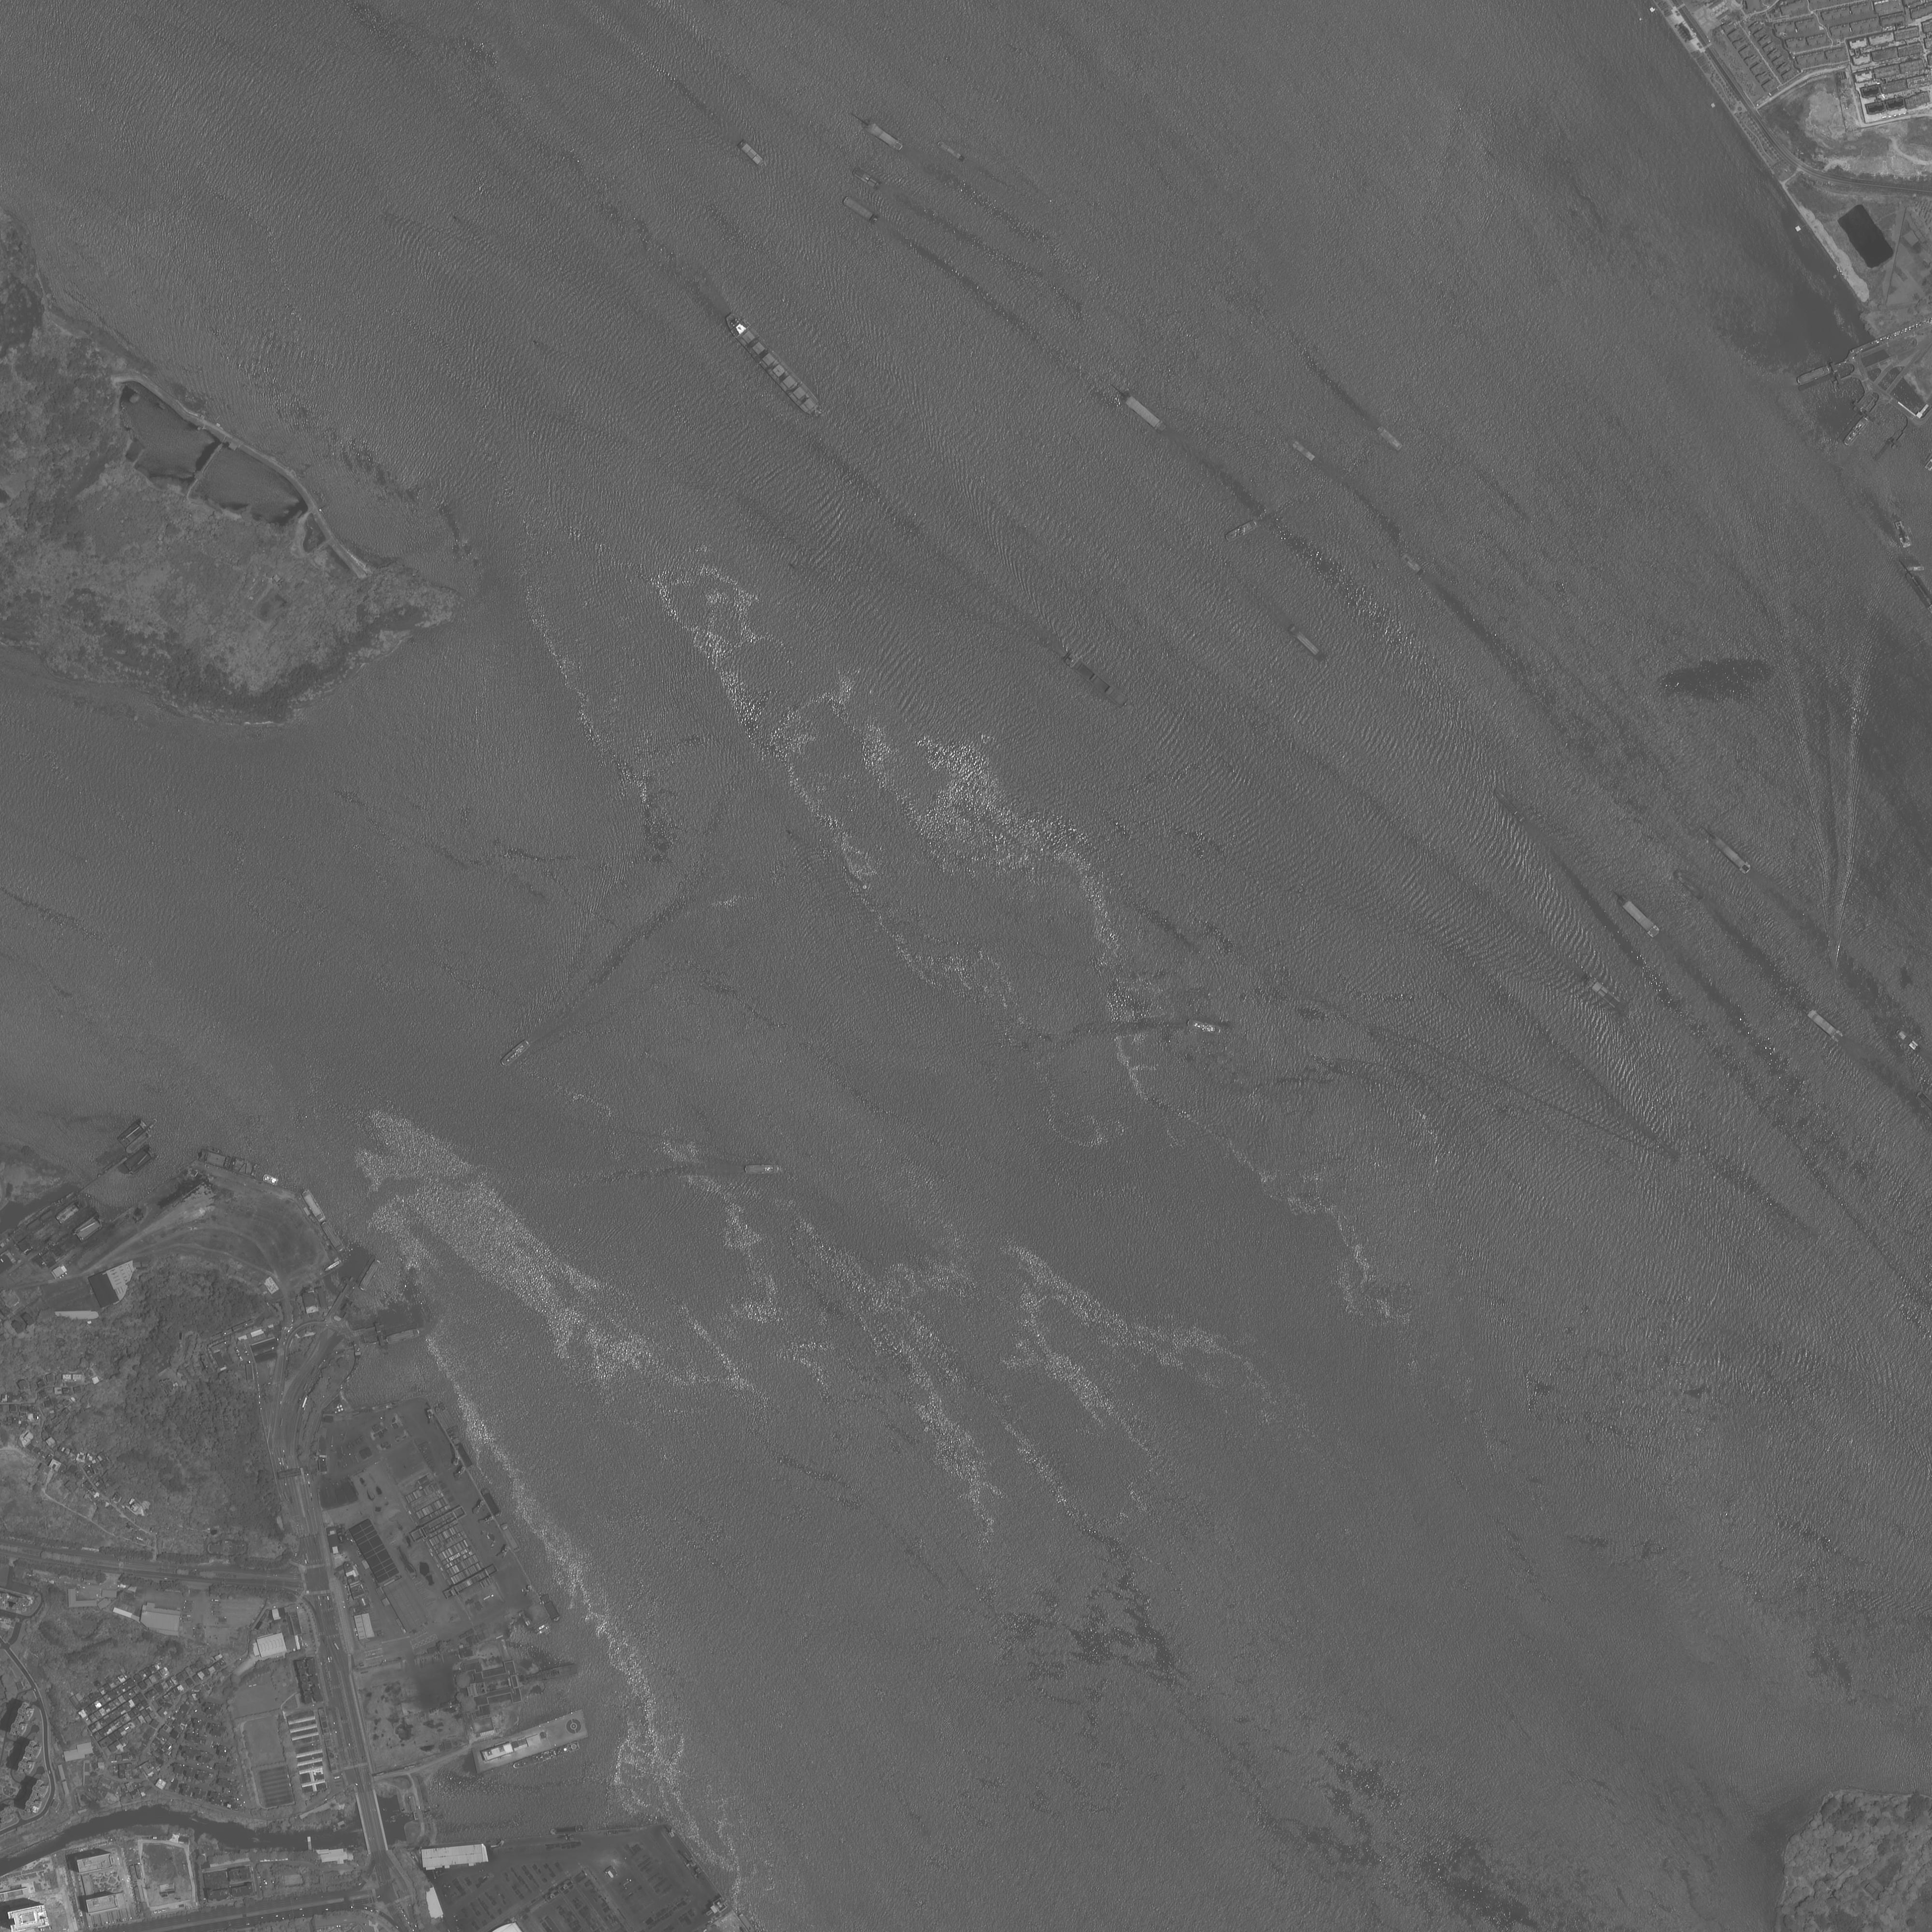harbor: (80, 1154, 129, 1194)
ship: (717, 304, 832, 426), (1058, 646, 1139, 717), (1113, 384, 1171, 439), (1612, 890, 1665, 941), (1706, 830, 1757, 878), (1580, 971, 1633, 1017), (510, 1741, 584, 1773), (1799, 1003, 1847, 1047), (858, 117, 908, 156), (1283, 621, 1325, 662), (1490, 786, 1529, 828), (839, 193, 881, 228), (495, 1035, 534, 1072), (734, 136, 770, 172), (1283, 432, 1320, 465), (1221, 517, 1261, 547), (1674, 870, 1709, 904), (299, 1187, 329, 1226), (449, 1433, 478, 1474), (1840, 416, 1874, 449), (122, 1127, 157, 1159), (318, 1219, 349, 1256), (356, 1256, 386, 1293), (1891, 1026, 1925, 1058), (849, 165, 885, 195), (934, 136, 970, 166), (1184, 1016, 1230, 1039), (384, 1325, 428, 1348), (1394, 550, 1428, 580), (1792, 363, 1833, 387), (1373, 423, 1405, 453), (497, 1520, 524, 1555), (538, 1591, 564, 1626), (478, 1486, 504, 1520), (432, 1405, 456, 1440), (743, 1162, 786, 1178), (548, 1824, 584, 1836), (260, 1171, 281, 1189)
